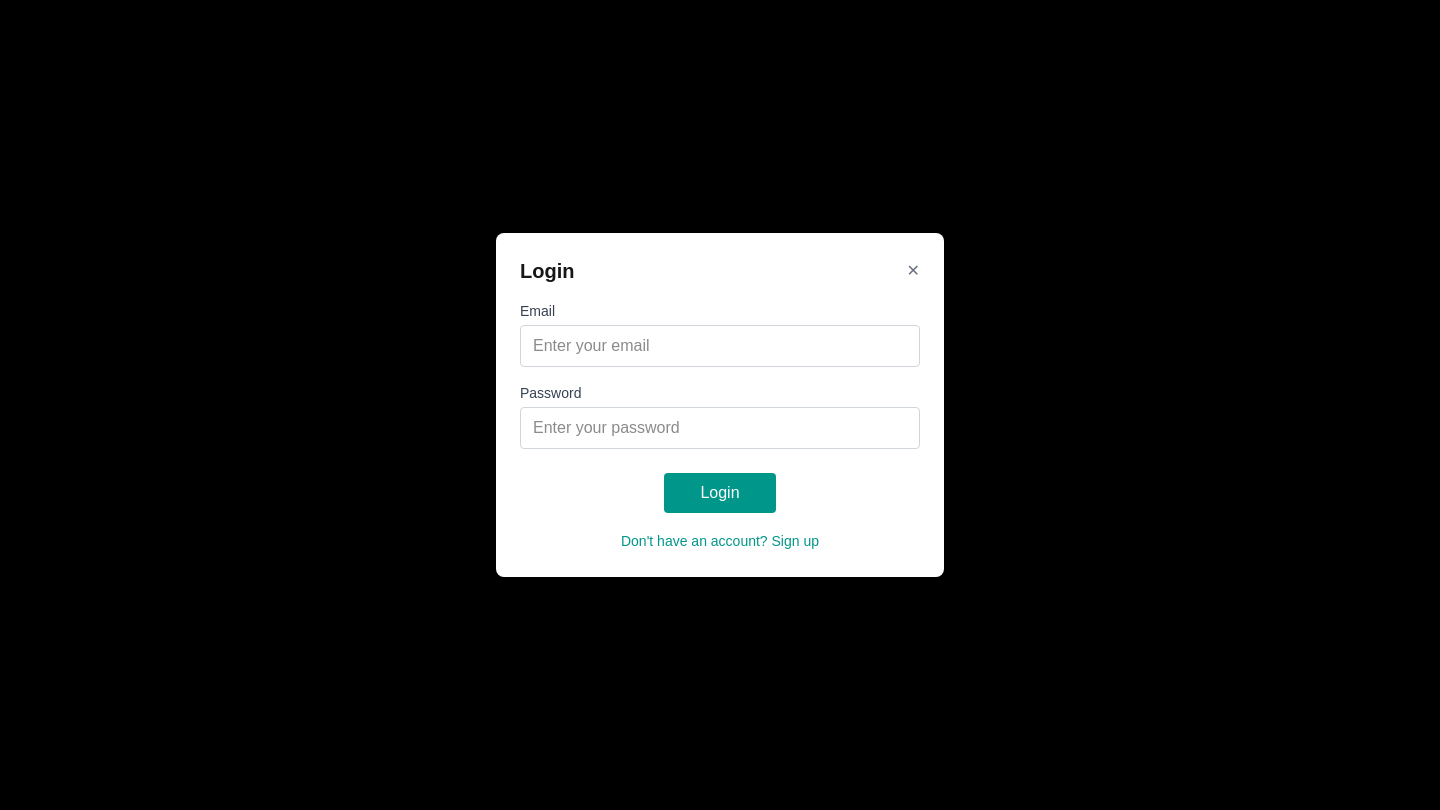
Test: AuthModal › Login functionality › should handle failed login
This screenshot has width=1440, height=810.
Type "test@example.com" into the field with placeholder "Enter your email" at point(720, 346), box left=520, top=325, right=920, bottom=367
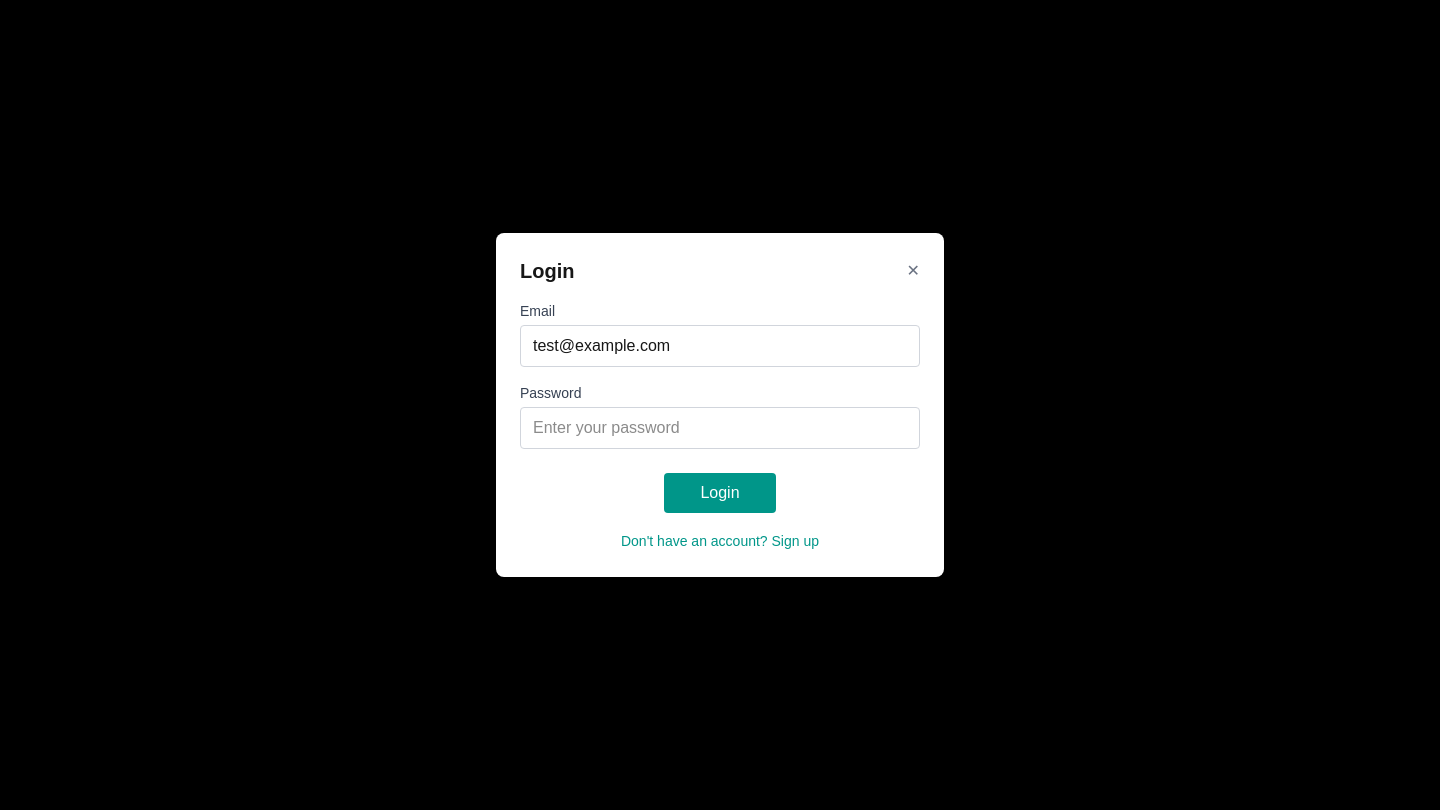
Type "wrongpassword" into the password field with placeholder "Enter your password" at point(720, 428), box left=520, top=407, right=920, bottom=449
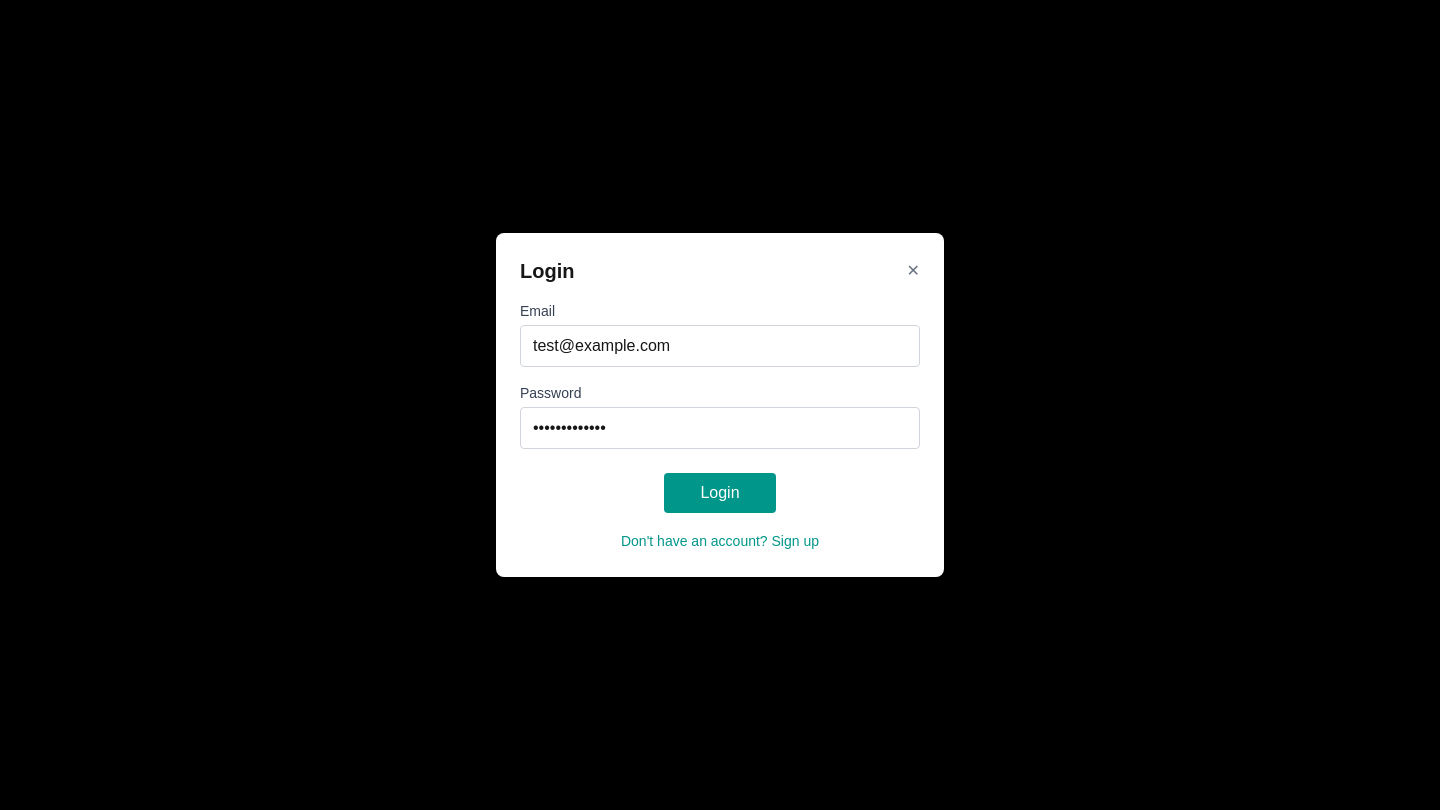
Click the button "Login" at point(720, 493), box left=664, top=473, right=776, bottom=513
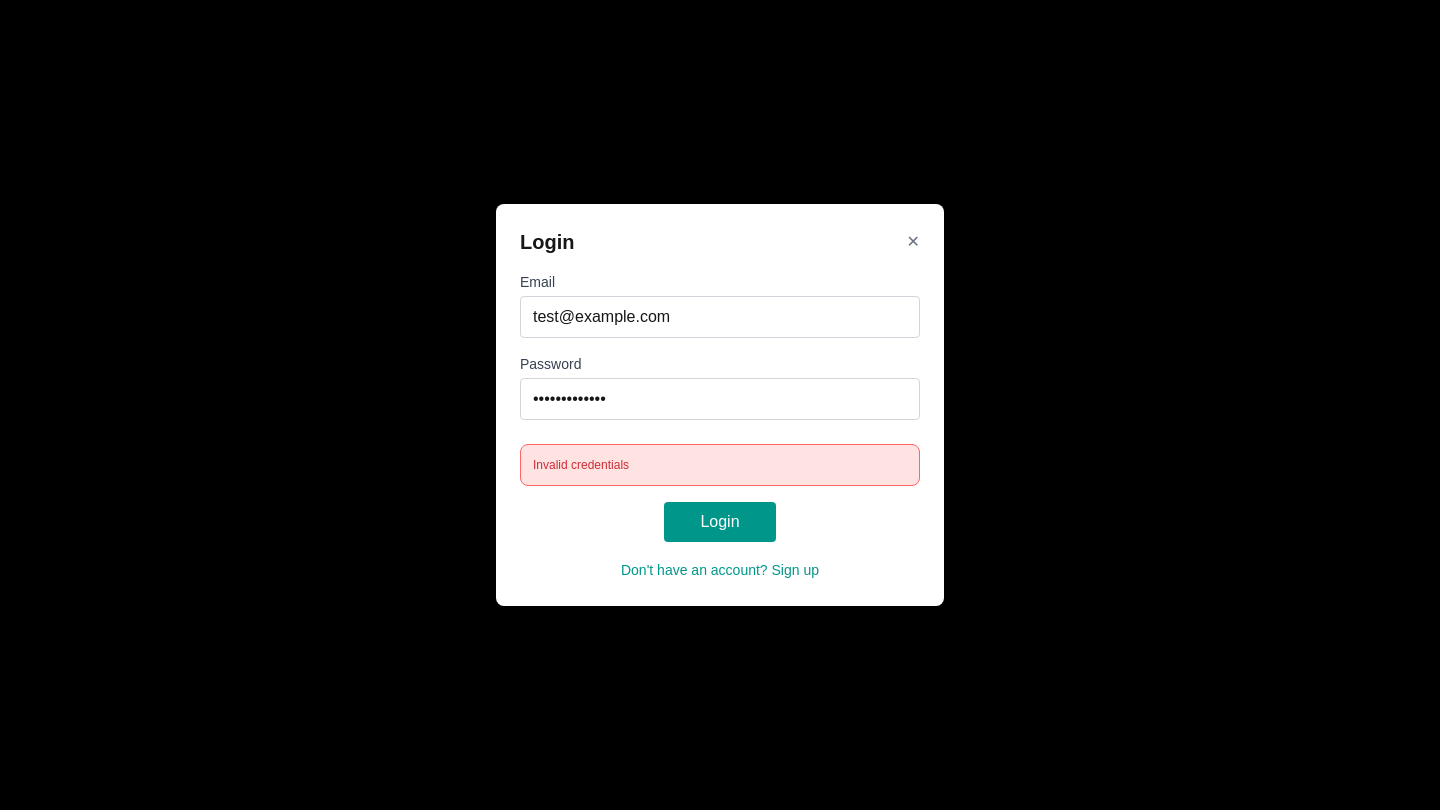
Now the text "Invalid credentials" is shown, box left=520, top=444, right=920, bottom=486
